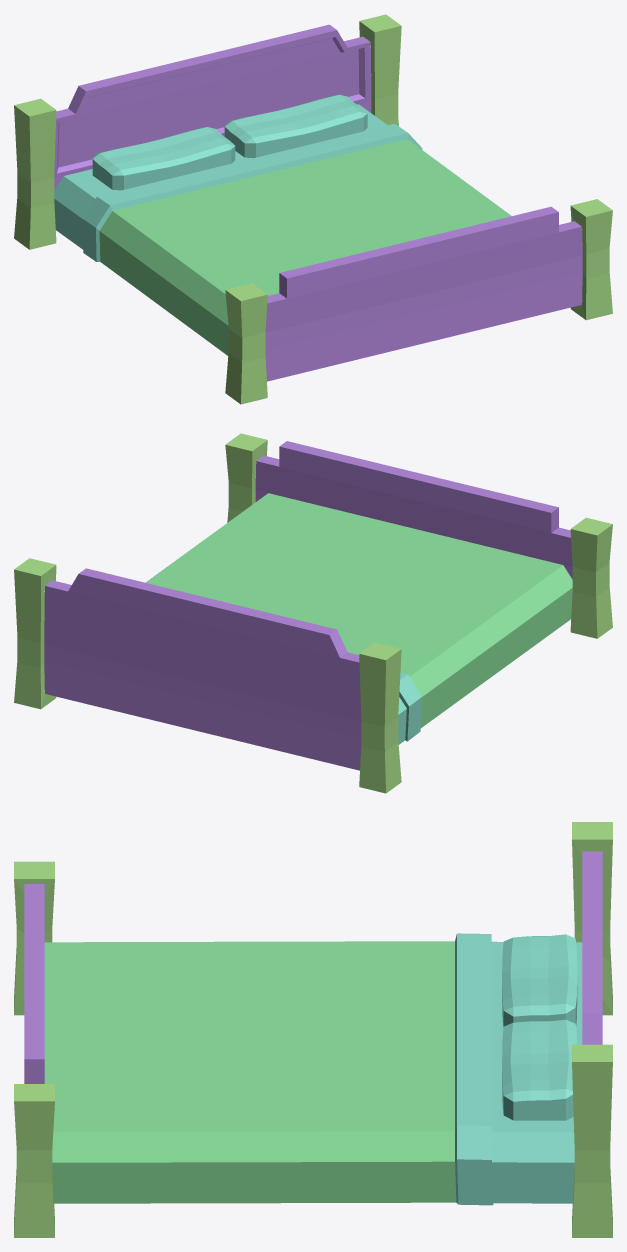
Rendered from BedKing.glb.
3 renders of one model, top to bottom at view 1: azimuth 30°, elevation 25°; view 2: azimuth 150°, elevation 25°; view 3: azimuth 270°, elevation 25°, orthographic. The views are drawn at different scales.
Parts seen in each view (by area): view 1: BedKing_0, BedKing_2, BedKing_1, BedKing_3; view 2: BedKing_0, BedKing_2, BedKing_3, BedKing_1; view 3: BedKing_2, BedKing_1, BedKing_3, BedKing_0.
Part boxes in pixels (x1,y1,x2,y2): BedKing_0: (54,24,582,381); BedKing_2: (99,139,511,355); BedKing_1: (54,94,422,261); BedKing_3: (14,14,612,404); BedKing_0: (44,441,572,770); BedKing_2: (145,493,572,727); BedKing_3: (14,433,612,793); BedKing_1: (398,672,422,744); BedKing_2: (44,941,456,1203); BedKing_1: (455,933,582,1205); BedKing_3: (14,822,612,1237); BedKing_0: (24,851,602,1083).
Bounding box in the file's own units: 1.35 × 0.4898 × 1.43.
